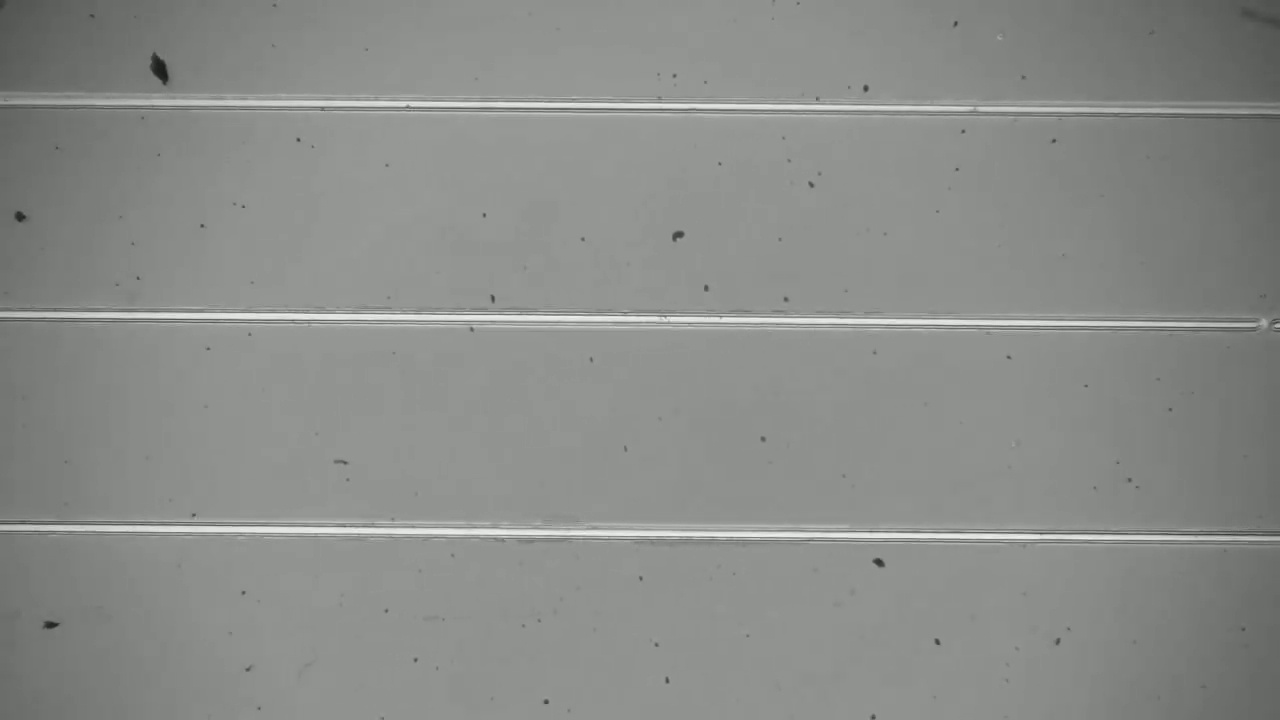open: (1239, 306, 1279, 348)
